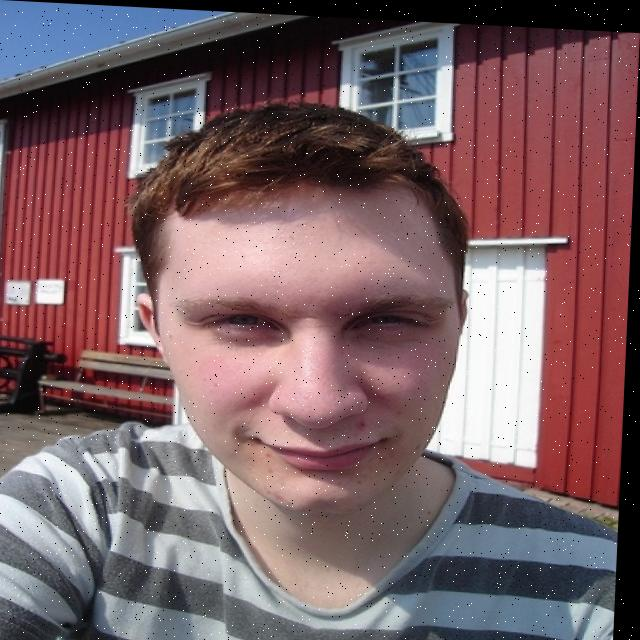opened_eye: (195, 309, 296, 343), (349, 309, 440, 343)
